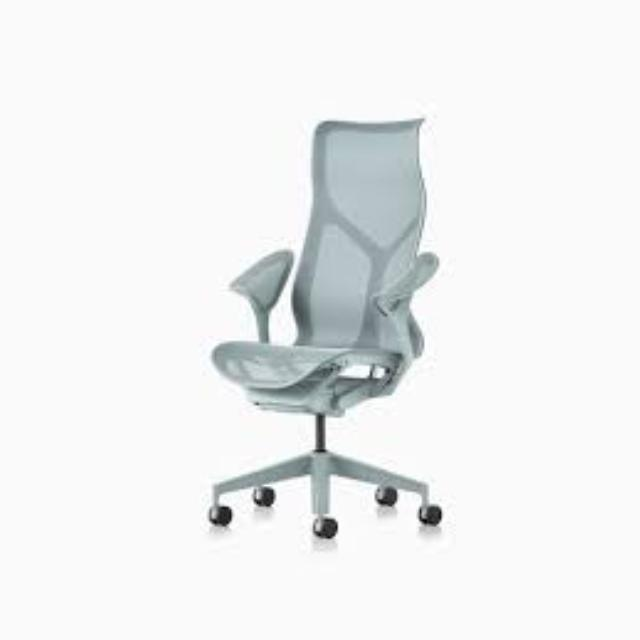obstacle: (212, 73, 470, 577)
